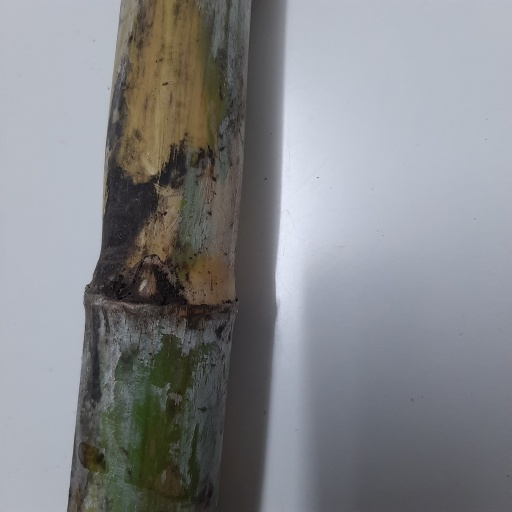Bud: (135, 267, 160, 301)
